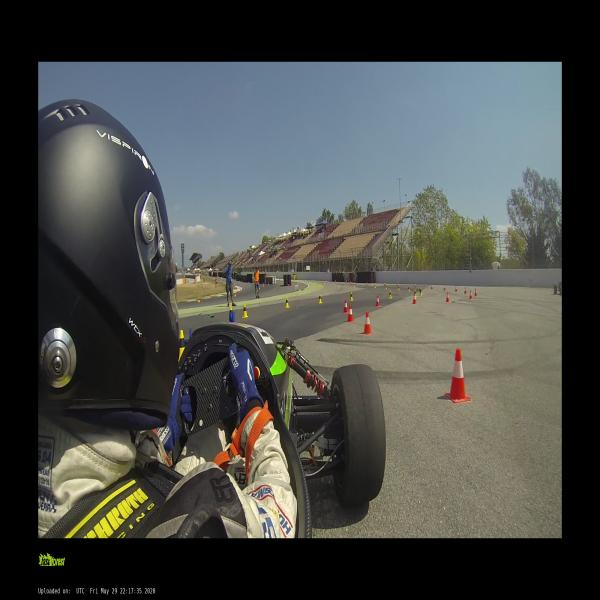orange_cone: (445, 348, 471, 403), (362, 312, 372, 336), (346, 306, 354, 322), (342, 300, 349, 314), (374, 296, 380, 307), (445, 292, 450, 303), (412, 294, 417, 304), (468, 291, 472, 300), (474, 288, 477, 298), (464, 287, 467, 294), (443, 285, 446, 291), (414, 282, 417, 288), (455, 286, 457, 292), (349, 281, 352, 285), (430, 284, 432, 290)
yellow_cone: (178, 331, 186, 361), (227, 306, 233, 322), (242, 304, 248, 318), (284, 296, 290, 308), (318, 294, 322, 303), (388, 290, 392, 299), (350, 292, 353, 301), (419, 289, 422, 296), (407, 286, 410, 292), (414, 290, 417, 296), (383, 281, 386, 287), (418, 287, 421, 293), (397, 286, 400, 290), (385, 284, 387, 290), (366, 281, 368, 286), (374, 284, 376, 288), (337, 283, 339, 287), (353, 283, 355, 287), (234, 292, 235, 297)
